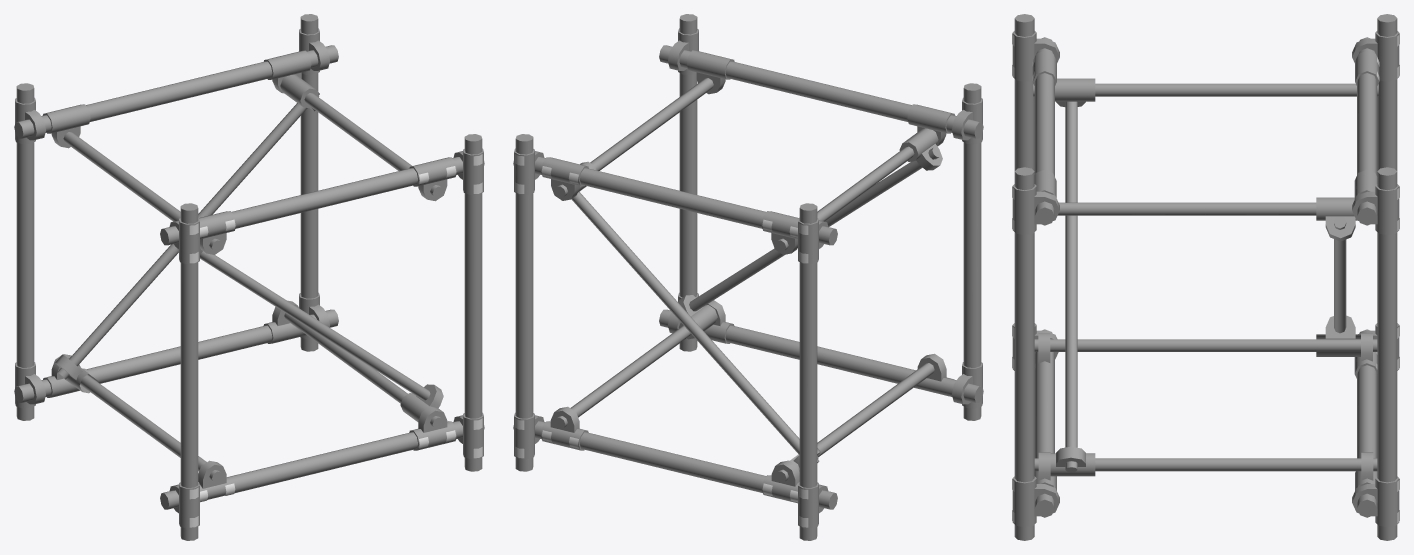
The model's file is ScaffoldingBody.fbx.
3 views of the same model, side by side, from view 1: azimuth 30°, elevation 25°; view 2: azimuth 150°, elevation 25°; view 3: azimuth 270°, elevation 25° (orthographic). The views are drawn at different scales.
Parts seen in each view (by area): view 1: Cube.014; view 2: Cube.014; view 3: Cube.014.
Part boxes in pixels (x1,y1,x2,y2): Cube.014: [14, 14, 484, 540]; Cube.014: [513, 14, 983, 540]; Cube.014: [1012, 14, 1399, 540].
Size of the model in its own units: 200 by 200 by 193.
